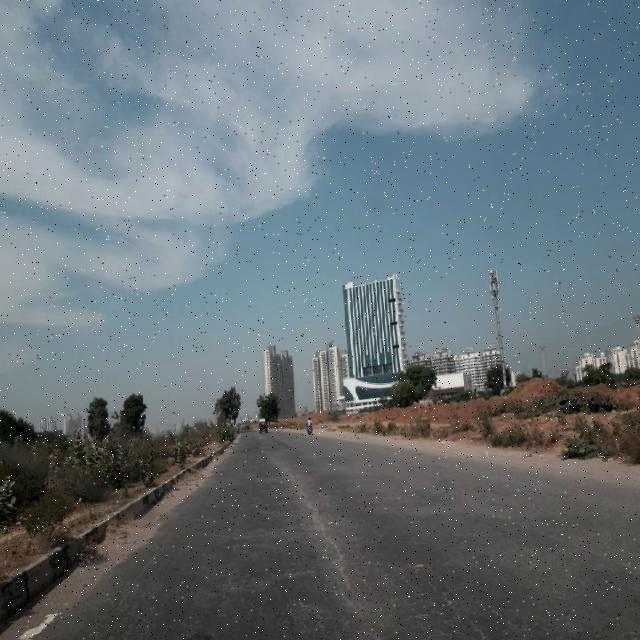D00: (277, 456, 363, 619), (417, 560, 485, 636)
D20: (206, 467, 510, 639)
